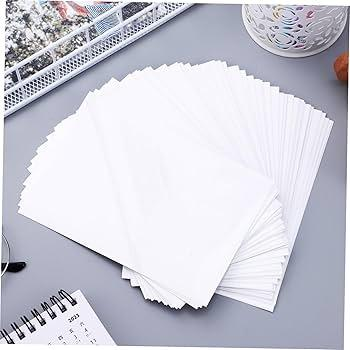plastic: (0, 13, 342, 340)
